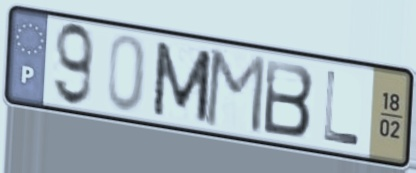0: (104, 32, 150, 117)
9: (52, 19, 97, 111)
B: (261, 55, 317, 140)
L: (321, 67, 363, 149)
M: (201, 46, 269, 139), (149, 37, 215, 127)
